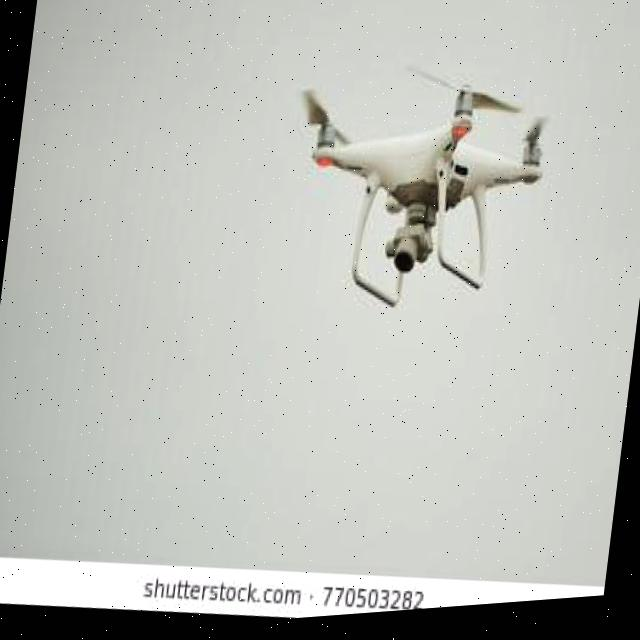drone: (251, 35, 594, 354)
